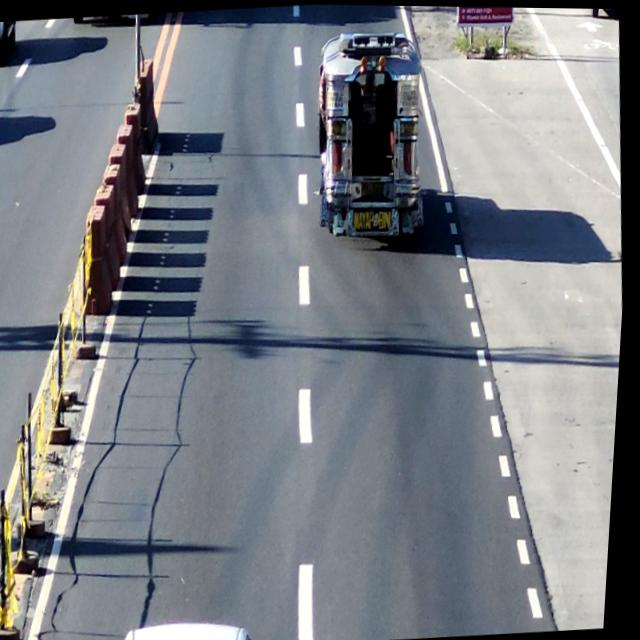Jeep: (304, 25, 438, 242)
